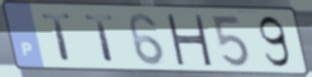5: (209, 13, 252, 69)
6: (127, 10, 167, 67)
9: (256, 14, 293, 69)
H: (163, 12, 214, 68)
T: (82, 13, 118, 64), (40, 12, 75, 63)
